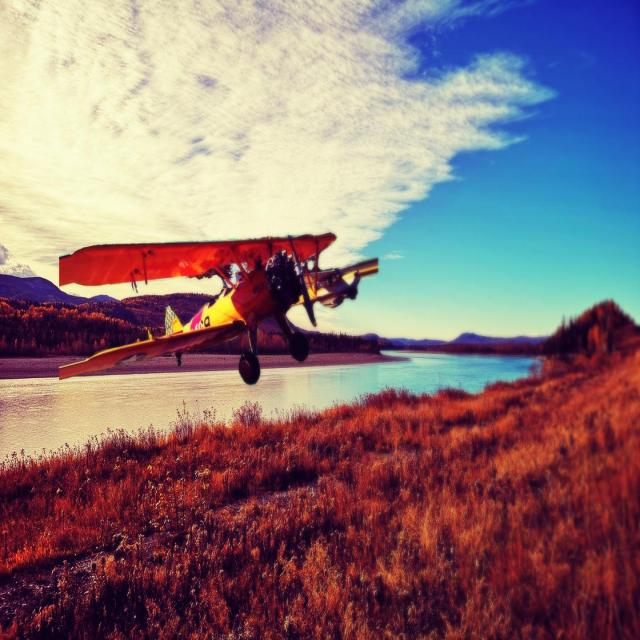airplane: (57, 231, 379, 385)
